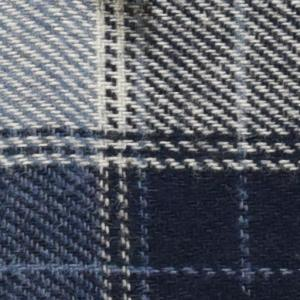Stain: (115, 1, 166, 41)
